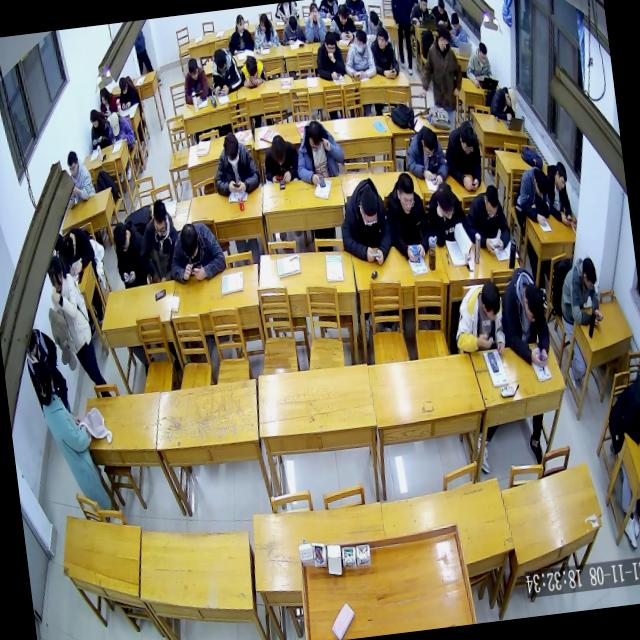bow: (164, 213, 228, 287), (514, 164, 554, 228), (56, 221, 98, 277), (486, 81, 520, 124), (237, 52, 269, 97)
down: (520, 280, 547, 328), (393, 170, 418, 218), (355, 184, 381, 230), (478, 278, 503, 324), (433, 179, 458, 223), (178, 220, 202, 264), (149, 196, 171, 241), (44, 255, 66, 295), (220, 130, 242, 168), (481, 182, 502, 220), (268, 132, 290, 168), (110, 219, 132, 255), (579, 256, 599, 294), (304, 120, 325, 156), (532, 167, 550, 200), (59, 233, 78, 264), (553, 158, 569, 192), (64, 149, 82, 179), (211, 46, 228, 76), (320, 28, 338, 55), (185, 54, 200, 84), (504, 84, 518, 114), (243, 54, 259, 79), (107, 110, 122, 136), (476, 40, 490, 67), (336, 1, 350, 27), (367, 7, 380, 31), (256, 12, 270, 34), (96, 85, 110, 106), (88, 106, 100, 130), (233, 12, 246, 34), (449, 10, 461, 32), (117, 75, 129, 96), (286, 13, 298, 34), (435, 0, 446, 16)
lookup: (374, 24, 391, 52), (307, 2, 321, 23), (417, 0, 429, 12)
sit: (31, 352, 111, 515), (42, 248, 106, 392), (494, 262, 554, 372), (334, 172, 396, 270), (411, 20, 467, 124), (448, 276, 510, 362), (380, 168, 432, 265), (423, 175, 474, 268), (134, 194, 184, 285), (291, 115, 348, 188), (554, 251, 604, 332), (208, 126, 262, 200), (461, 182, 513, 258), (599, 372, 640, 455), (438, 117, 484, 189), (400, 117, 449, 182), (109, 217, 150, 291), (258, 130, 302, 188), (542, 158, 576, 228), (61, 146, 98, 208), (339, 26, 378, 82), (311, 28, 348, 85), (366, 21, 401, 81), (206, 42, 243, 98), (179, 54, 212, 108), (462, 38, 494, 90), (326, 0, 359, 44), (224, 12, 255, 56), (299, 0, 328, 45), (249, 10, 280, 51), (86, 104, 113, 151), (104, 108, 135, 146), (278, 10, 307, 48), (115, 70, 142, 110), (445, 9, 469, 50), (358, 7, 384, 38), (406, 0, 432, 29), (426, 0, 451, 30), (96, 84, 118, 116)
